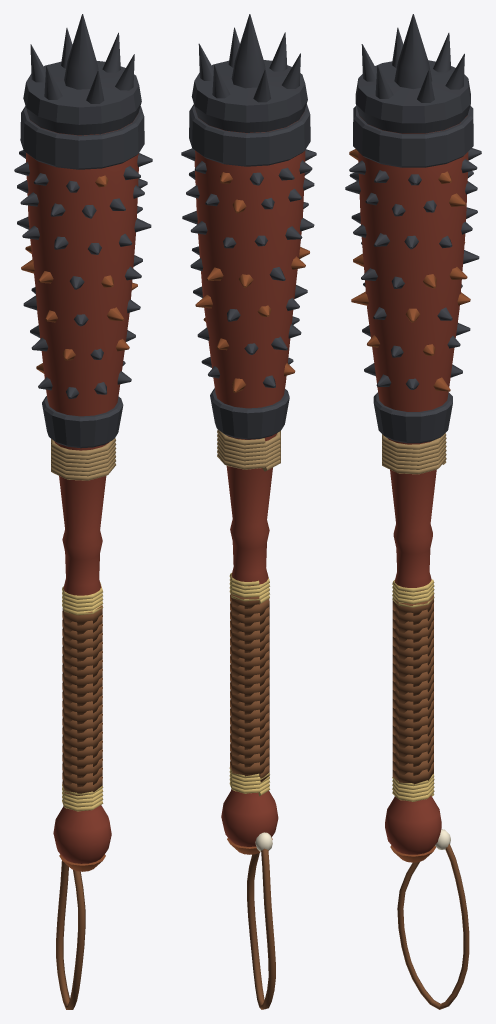
File: tool_club_studded.fbx
3 views of the same model, side by side, from view 1: azimuth 30°, elevation 25°; view 2: azimuth 210°, elevation 25°; view 3: azimuth 270°, elevation 25° (orthographic). The views are drawn at different scales.
Parts seen in each view (by area): view 1: Tool_Club_Studded_Body, Tool_Club_Studded_IronWork, Tool_Club_Studded_GripWrap, Tool_Club_Studded_Studs; view 2: Tool_Club_Studded_Body, Tool_Club_Studded_IronWork, Tool_Club_Studded_GripWrap, Tool_Club_Studded_Studs; view 3: Tool_Club_Studded_Body, Tool_Club_Studded_IronWork, Tool_Club_Studded_GripWrap, Tool_Club_Studded_Studs.
Boxes of the visible parts, bbox=[...] form: Tool_Club_Studded_Body: bbox=[26, 120, 138, 863]; Tool_Club_Studded_IronWork: bbox=[20, 14, 144, 871]; Tool_Club_Studded_GripWrap: bbox=[51, 438, 116, 1009]; Tool_Club_Studded_Studs: bbox=[14, 150, 152, 398]; Tool_Club_Studded_Body: bbox=[194, 118, 305, 846]; Tool_Club_Studded_IronWork: bbox=[189, 14, 310, 854]; Tool_Club_Studded_GripWrap: bbox=[217, 429, 280, 1009]; Tool_Club_Studded_Studs: bbox=[181, 148, 316, 392]; Tool_Club_Studded_Body: bbox=[358, 115, 468, 854]; Tool_Club_Studded_IronWork: bbox=[353, 14, 473, 862]; Tool_Club_Studded_GripWrap: bbox=[382, 433, 469, 1009]; Tool_Club_Studded_Studs: bbox=[345, 148, 481, 391].
Size of the model in its own units: 15.38 by 123 by 15.35.
